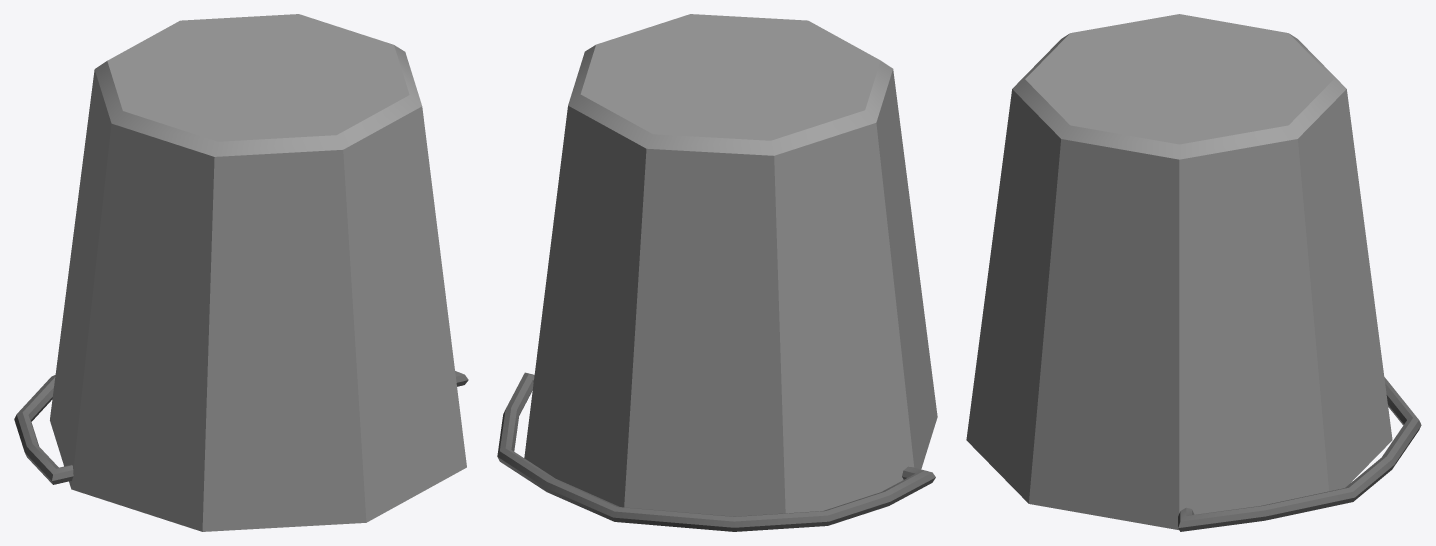
Rendered from pail.fbx.
The picture shows the model from 3 angles, left to right: view 1: azimuth 30°, elevation 25°; view 2: azimuth 150°, elevation 25°; view 3: azimuth 270°, elevation 25°; orthographic projection.
Visible parts, largest first — view 1: Cylinder007, Line002; view 2: Cylinder007, Line002; view 3: Cylinder007, Line002.
Part boxes in pixels (left/top/right/bottom): Cylinder007: left=50, top=14, right=466, bottom=531; Line002: left=14, top=371, right=468, bottom=484; Cylinder007: left=524, top=14, right=937, bottom=516; Line002: left=497, top=372, right=935, bottom=531; Cylinder007: left=966, top=14, right=1392, bottom=529; Line002: left=1178, top=377, right=1421, bottom=531.
Size of the model in its own units: 7.05 by 5.92 by 6.76.
